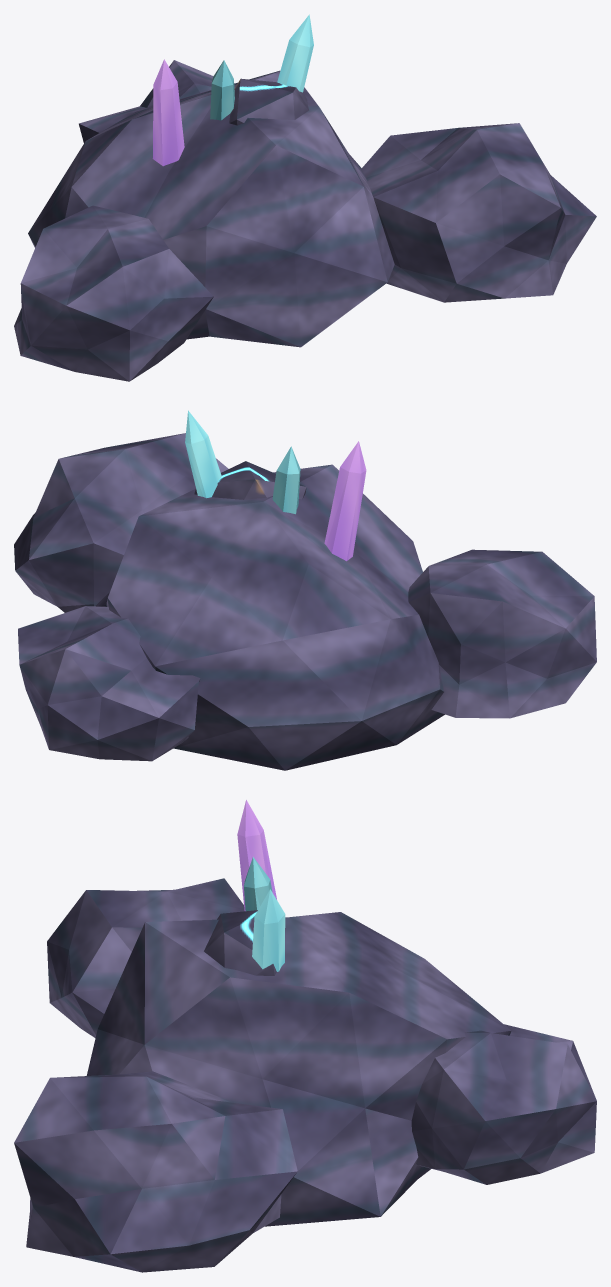
Rendered from boulders.glb.
3 renders of one model, top to bottom at view 1: azimuth 30°, elevation 25°; view 2: azimuth 150°, elevation 25°; view 3: azimuth 270°, elevation 25°, orthographic. The views are drawn at different scales.
Visible parts, largest first — view 1: boulders; view 2: boulders; view 3: boulders.
Part boxes in pixels (box(x1,y1,x2,y2)): boulders: box(14, 14, 596, 381); boulders: box(14, 410, 596, 770); boulders: box(14, 800, 596, 1272).
Bounding box in the file's own units: 3.71 × 1.63 × 2.88.
5 materials, 5 textured.
